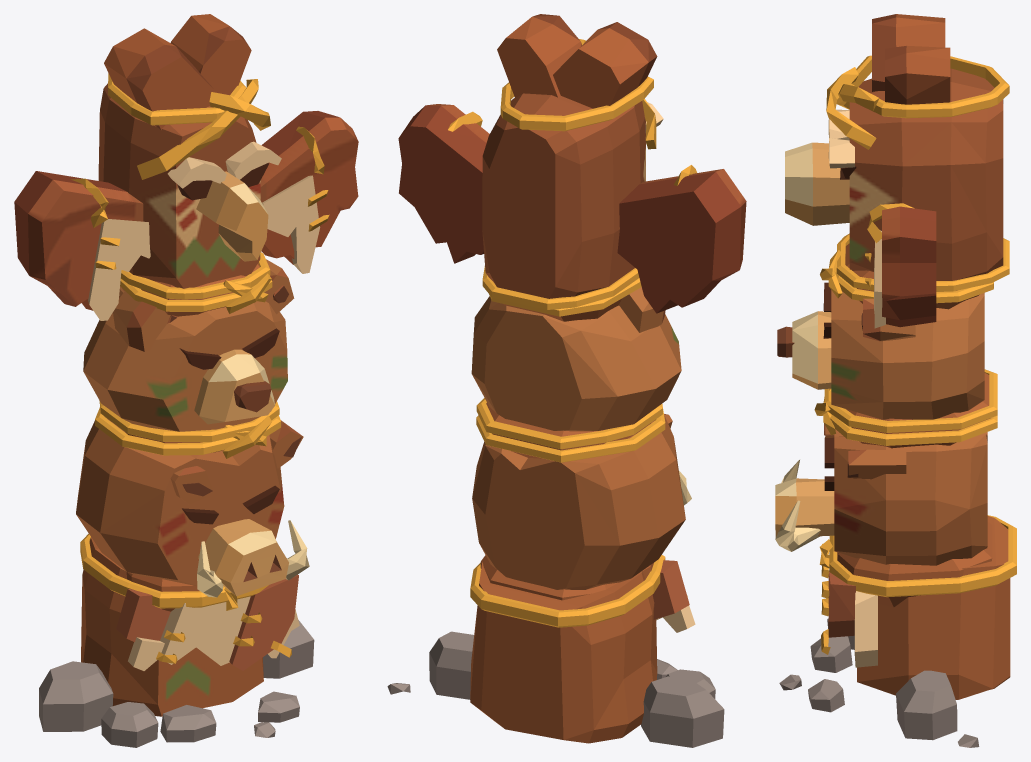
Rendered from Bird_Bear_Boar_Totem.glb.
3 views of the same model, side by side, from view 1: azimuth 30°, elevation 25°; view 2: azimuth 150°, elevation 25°; view 3: azimuth 270°, elevation 25° (orthographic). The views are drawn at different scales.
Visible parts, largest first — view 1: Bird Bear Boar Totem; view 2: Bird Bear Boar Totem; view 3: Bird Bear Boar Totem.
Part boxes in pixels (box(x1,y1,x2,y2)): Bird Bear Boar Totem: box(14, 14, 358, 747); Bird Bear Boar Totem: box(387, 14, 746, 747); Bird Bear Boar Totem: box(775, 14, 1016, 747).
Size of the model in its own units: 1.61 by 3.16 by 1.07.
Materials: 2 (2 with a texture image).
